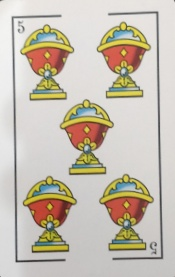5c: (10, 9, 159, 36)
